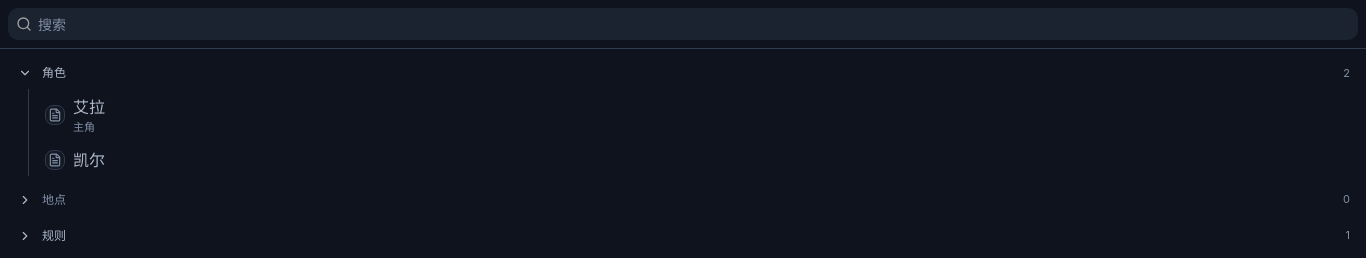
Test: ResourceDirectory › shows a no-results hint when search matches nothing
The width and height of the screenshot is (1366, 258).
Type "不存在的内容" into the field labelled "搜索".
click(695, 24); type("不存在的内容")  # box [32, 8, 1358, 40]
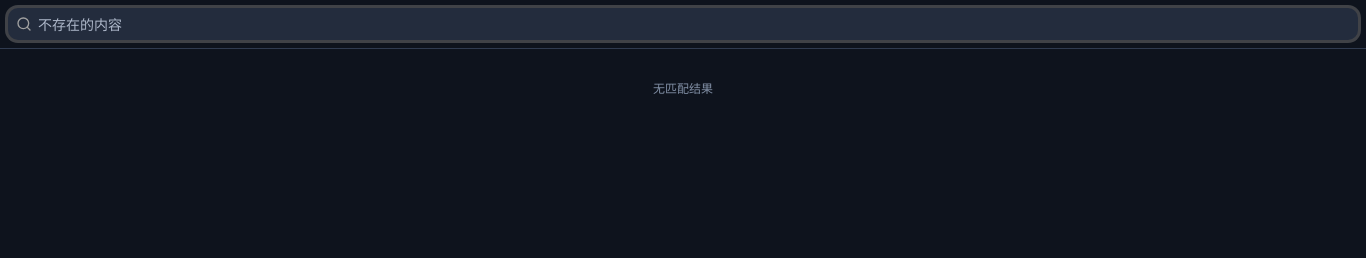
Expected: the text "无匹配结果" is shown, [653, 81, 713, 96]
